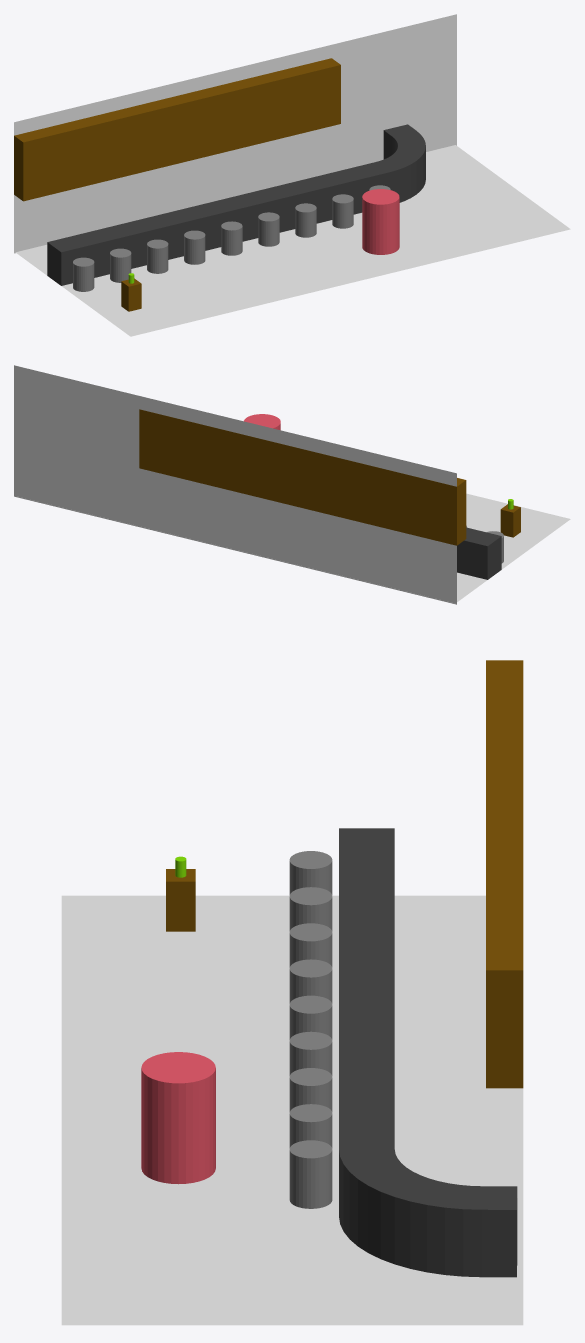
Rendered from blockoutminigame1.fbx.
3 renders of one model, top to bottom at view 1: azimuth 30°, elevation 25°; view 2: azimuth 150°, elevation 25°; view 3: azimuth 270°, elevation 25°, orthographic. The views are drawn at different scales.
Parts seen in each view (by area): view 1: pared, suelo, estanteria, barra, sillas, Player, stand; view 2: pared, estanteria, suelo, barra, stand, Player; view 3: suelo, barra, estanteria, sillas, Player, stand.
Boxes of the visible parts, left/top/right/bottom form: pared: left=14, top=14, right=456, bottom=253; suelo: left=15, top=145, right=570, bottom=336; estanteria: left=14, top=58, right=340, bottom=201; barra: left=47, top=124, right=425, bottom=285; sillas: left=73, top=185, right=390, bottom=291; Player: left=362, top=189, right=399, bottom=254; stand: left=121, top=278, right=141, bottom=311; pared: left=14, top=365, right=456, bottom=604; estanteria: left=139, top=409, right=466, bottom=545; suelo: left=457, top=493, right=570, bottom=601; barra: left=457, top=527, right=501, bottom=579; stand: left=500, top=504, right=520, bottom=537; Player: left=244, top=414, right=280, bottom=430; suelo: left=61, top=895, right=523, bottom=1325; barra: left=339, top=828, right=517, bottom=1277; estanteria: left=486, top=660, right=523, bottom=1088; sillas: left=289, top=851, right=332, bottom=1208; Player: left=141, top=1052, right=215, bottom=1184; stand: left=166, top=869, right=195, bottom=931.
Bounding box in the file's own units: 2750 × 779 × 1240.
